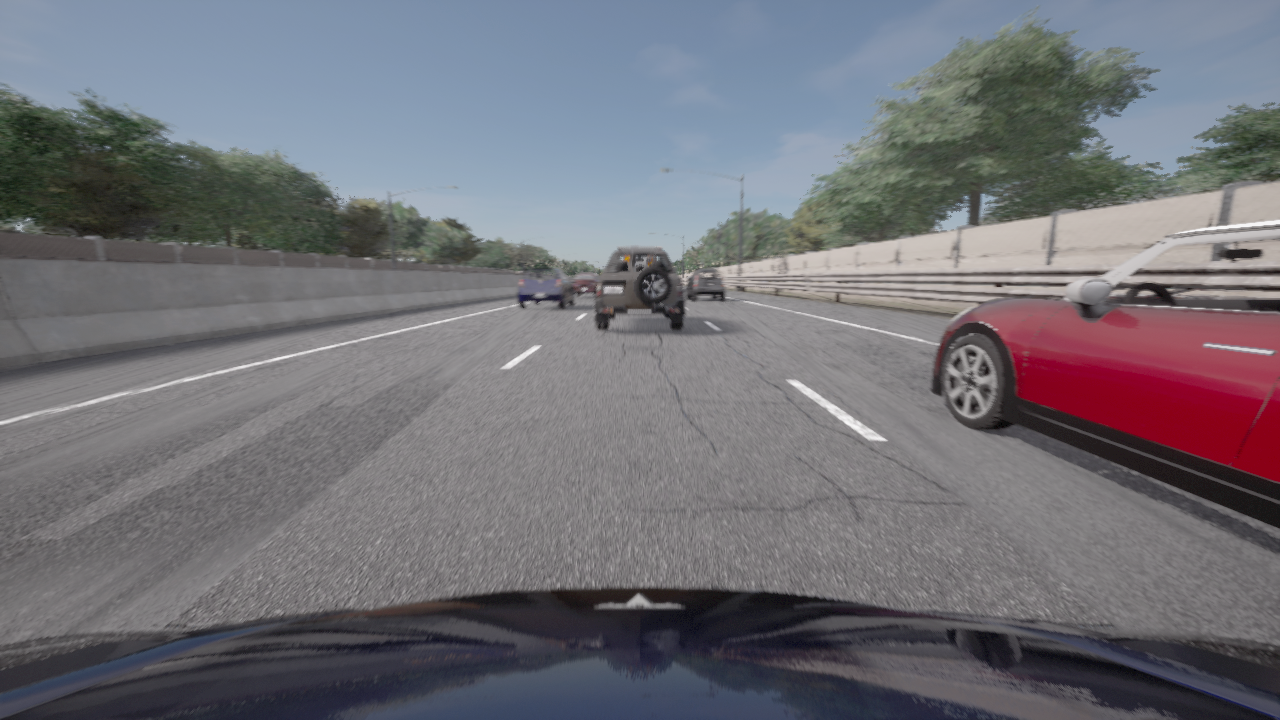cyclist: (0, 588, 1279, 719), (932, 220, 1279, 529), (594, 247, 685, 329), (518, 268, 575, 309), (687, 269, 725, 300), (572, 273, 599, 295)
